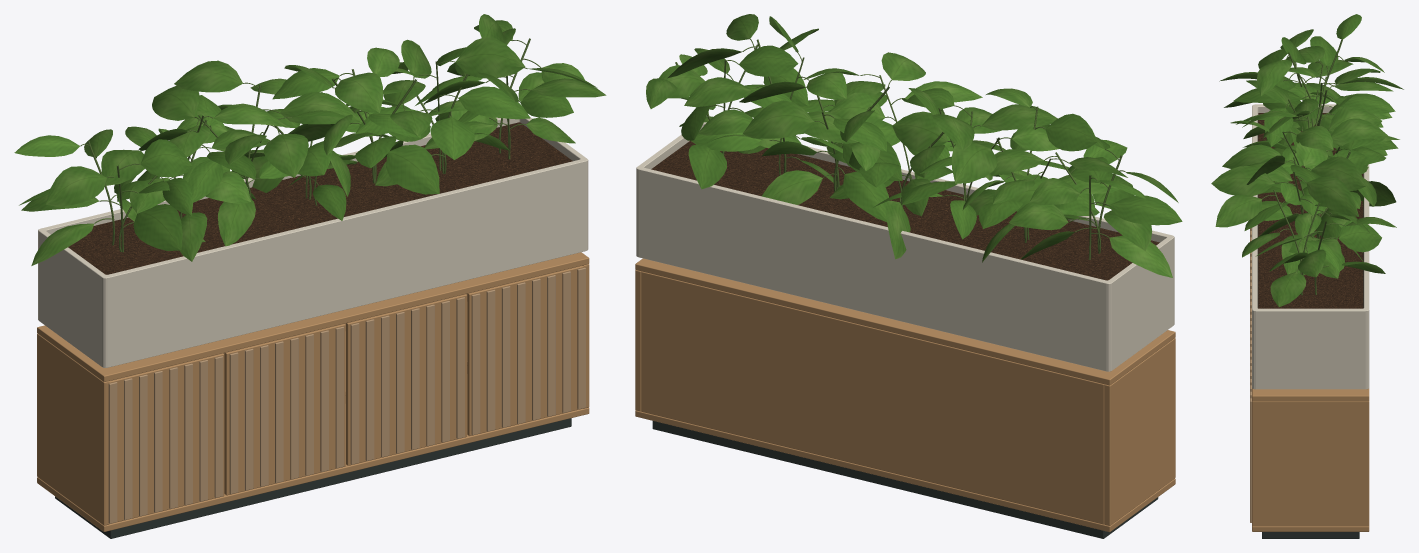
Rendered from botanicalDivider-9.glb.
3 views of the same model, side by side, from view 1: azimuth 30°, elevation 25°; view 2: azimuth 150°, elevation 25°; view 3: azimuth 270°, elevation 25° (orthographic). The views are drawn at different scales.
Visible parts, largest first — view 1: Planter_pothos_leaves, Planter_oiled_oak, StoragePlanter_Batten (×32), StoragePlanter_Door (×4), Planter_loose_soil, StoragePlanter_Side, StoragePlanter_Top, StoragePlanter_Plinth, StoragePlanter_Bottom, Planter_pothos_stems, Planter_matte_accent; view 2: StoragePlanter_Back, Planter_pothos_leaves, Planter_oiled_oak, Planter_loose_soil, StoragePlanter_Side (×2), StoragePlanter_Top, StoragePlanter_Plinth, Planter_matte_accent, StoragePlanter_Bottom, Planter_pothos_stems; view 3: Planter_pothos_leaves, StoragePlanter_Side, Planter_oiled_oak, Planter_loose_soil, Planter_pothos_stems, StoragePlanter_Top, StoragePlanter_Bottom, StoragePlanter_Plinth, StoragePlanter_Batten.
Part boxes in pixels (x1,y1,x2,y2): Planter_pothos_leaves: (14, 14, 606, 265); Planter_oiled_oak: (38, 117, 588, 367); StoragePlanter_Batten (×32): (108, 267, 585, 523); StoragePlanter_Door (×4): (105, 265, 588, 524); Planter_loose_soil: (68, 122, 572, 274); StoragePlanter_Side: (37, 333, 109, 525); StoragePlanter_Top: (37, 252, 589, 381); StoragePlanter_Plinth: (55, 418, 571, 538); StoragePlanter_Bottom: (37, 374, 589, 531); Planter_pothos_stems: (80, 38, 541, 252); Planter_matte_accent: (113, 225, 577, 340); StoragePlanter_Back: (641, 271, 1104, 524); Planter_pothos_leaves: (646, 14, 1182, 277); Planter_oiled_oak: (636, 122, 1174, 371); Planter_loose_soil: (651, 140, 1159, 280); StoragePlanter_Side (×2): (635, 270, 1175, 525); StoragePlanter_Top: (635, 258, 1175, 385); StoragePlanter_Plinth: (652, 421, 1158, 538); Planter_matte_accent: (645, 240, 1102, 352); StoragePlanter_Bottom: (635, 410, 1175, 532); Planter_pothos_stems: (675, 39, 1125, 259); Planter_pothos_leaves: (1211, 14, 1403, 307); StoragePlanter_Side: (1252, 401, 1369, 526); Planter_oiled_oak: (1252, 104, 1369, 389); Planter_loose_soil: (1258, 113, 1363, 308); Planter_pothos_stems: (1262, 39, 1350, 295); StoragePlanter_Top: (1252, 388, 1369, 401); StoragePlanter_Bottom: (1252, 526, 1369, 531); StoragePlanter_Plinth: (1262, 532, 1359, 538); StoragePlanter_Batten: (1250, 398, 1251, 522).
Bounding box in the file's own units: 2.26 × 1.58 × 0.7924.
Materials: 10 (2 with a texture image).
